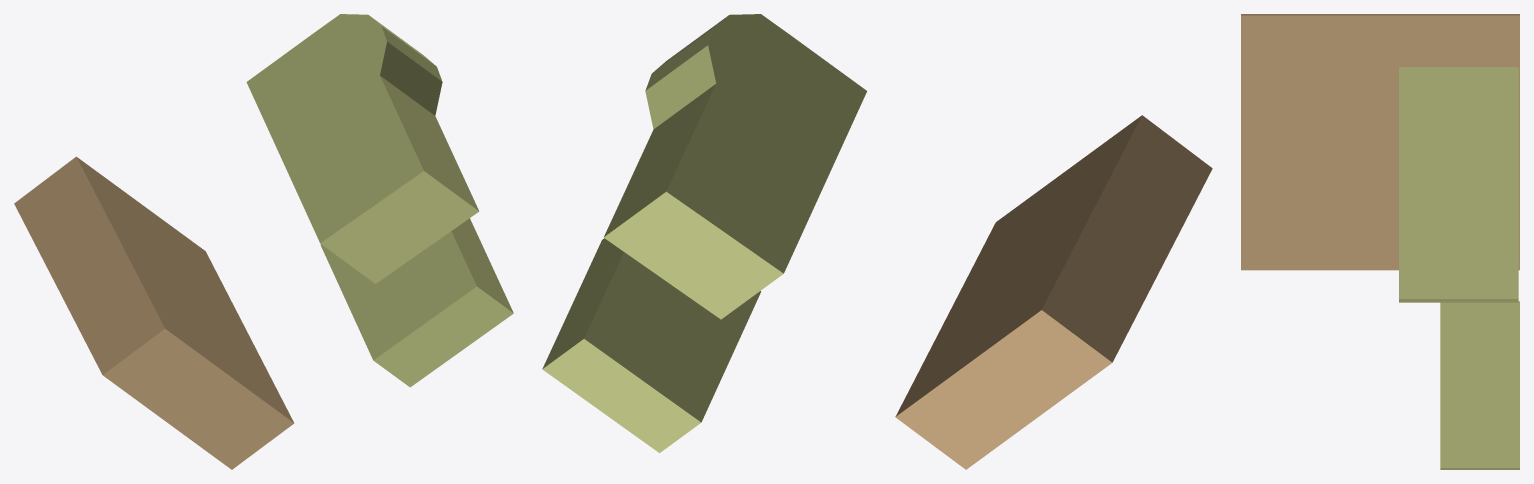
3 views of the same model, side by side, from view 1: azimuth 30°, elevation 25°; view 2: azimuth 150°, elevation 25°; view 3: azimuth 270°, elevation 25° (orthographic). The views are drawn at different scales.
Visible parts, largest first — view 1: 0_1_0_2_1_2_3_2; view 2: 0_1_0_2_1_2_3_2; view 3: 0_1_0_2_1_2_3_2.
Boxes of the visible parts, <box> form: 0_1_0_2_1_2_3_2: <box>14,14,513,469</box>; 0_1_0_2_1_2_3_2: <box>542,14,1212,469</box>; 0_1_0_2_1_2_3_2: <box>1241,14,1519,469</box>.
Bounding box in the file's own units: 43.38 × 31.8 × 21.
